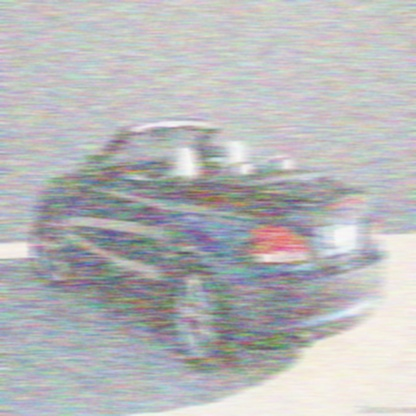Vehicle: (31, 107, 386, 374)
